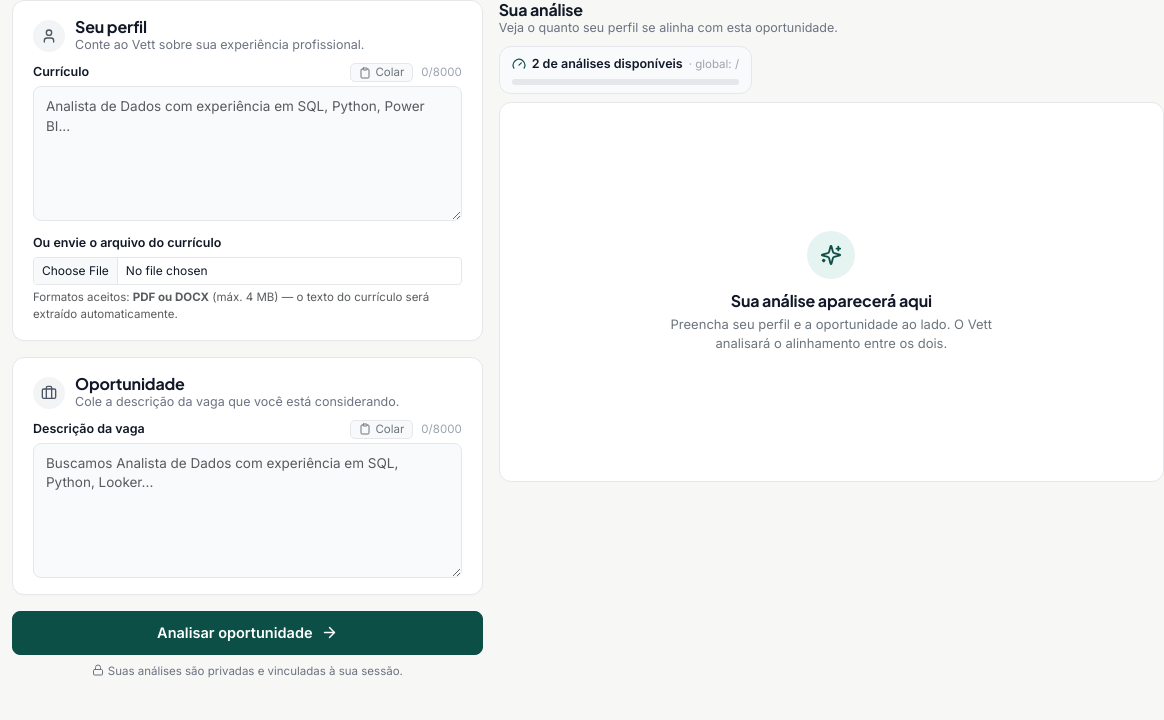
Test case: AnaliseWorkspace — bloqueio por cota › embaça o painel quando a API responde 429 com a mensagem de limite
Replace the text in the text box labelled "Currículo" with "Analista com SQL e Python". click: point(247, 154)
box: [33,86,462,221]
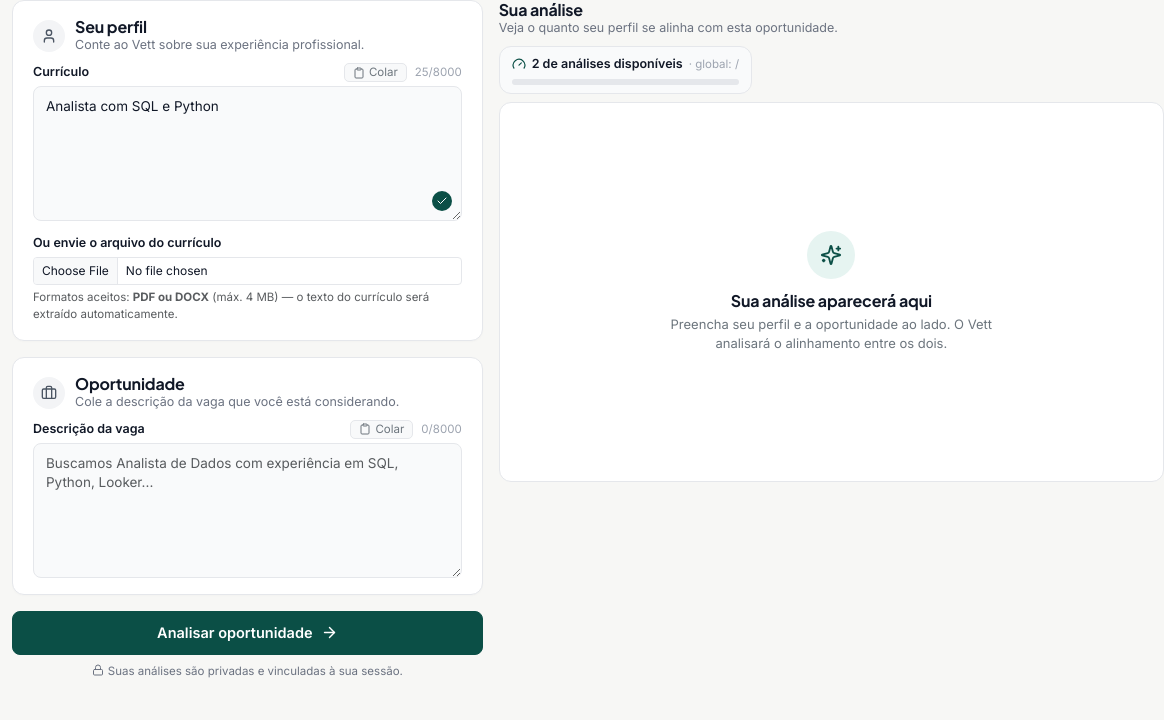
Replace the text in the text box labelled "Descrição da vaga" with "Vaga de analista de dados". click: point(247, 510)
box: [33,443,462,578]
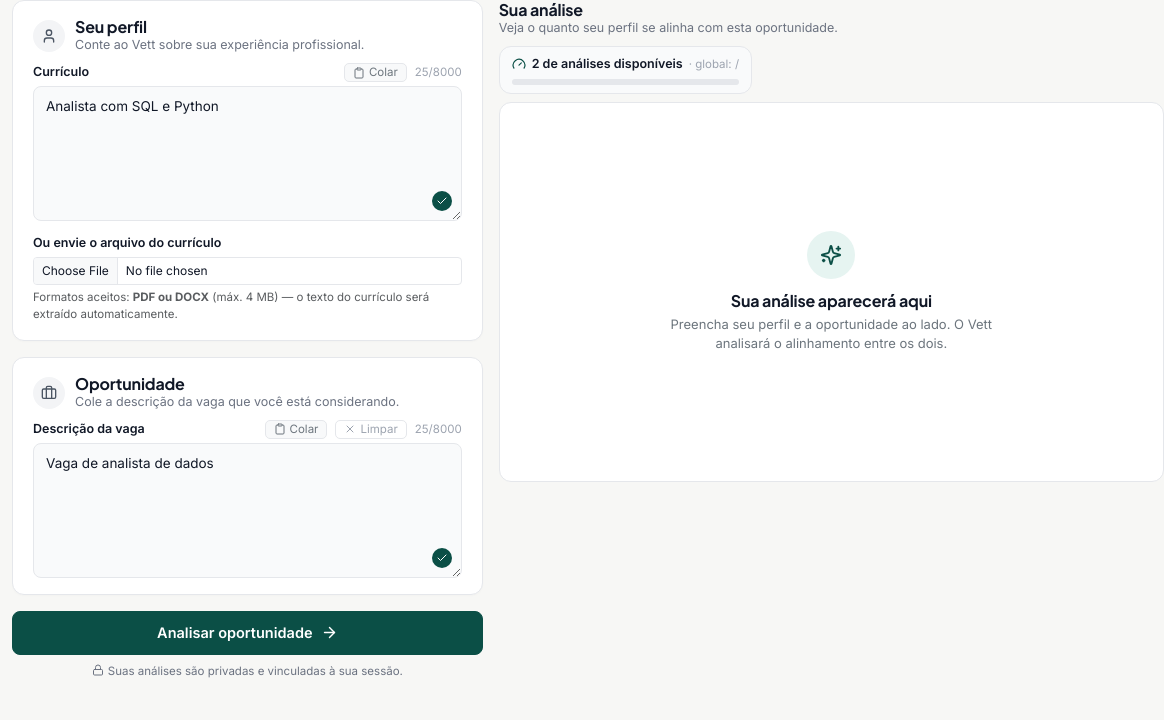
Click the button "Analisar oportunidade". click: point(247, 633)
box: [12,611,483,655]
(page scrolled)
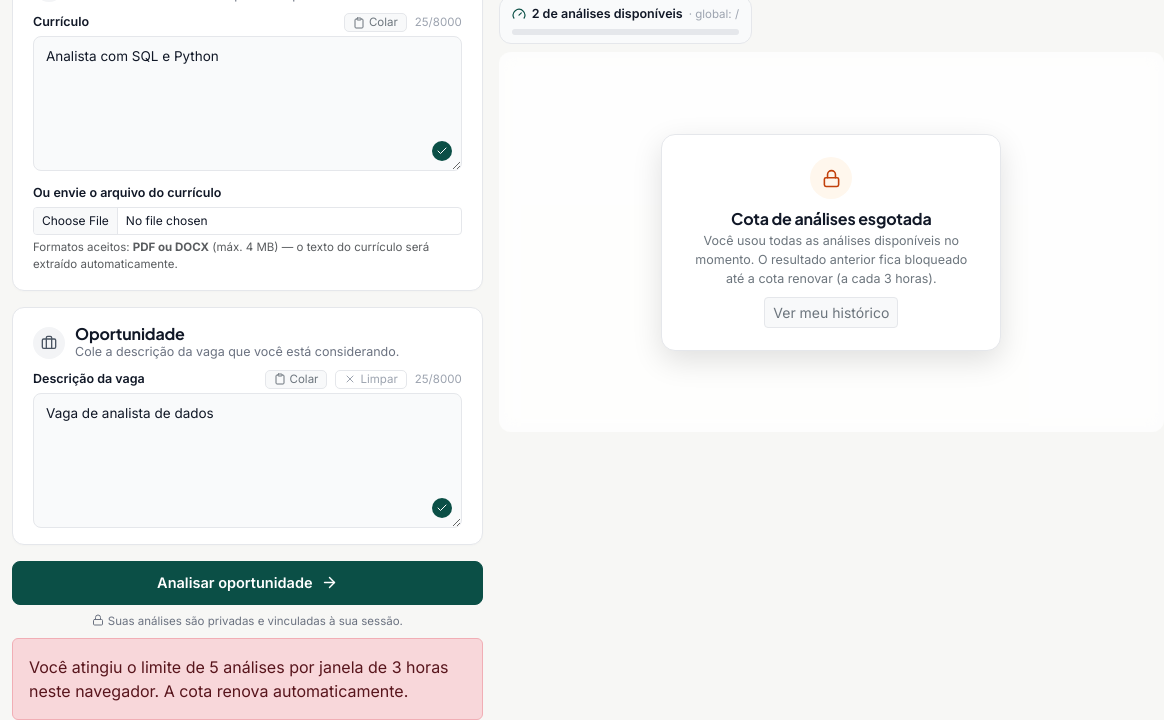
Check: the element with test id "analise-embacada" is shown, box [499,52,1163,432]
Check: the heading "Cota de análises esgotada" is shown, box [731,208,932,229]
Check: the text "Você atingiu o limite de 5 análises por janela" is shown, box [29,657,449,701]
